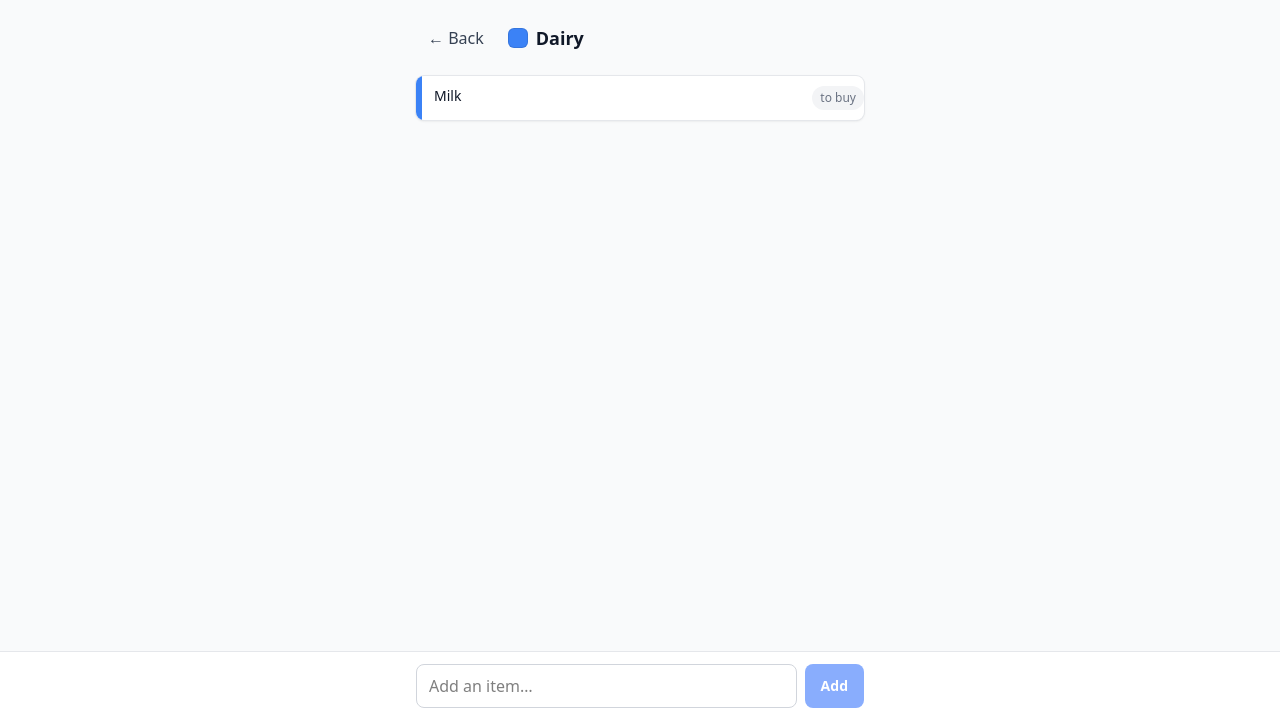
Test: CategoryItemsPage add-from-category bar (docs/TASKS.md → T43) › creates an item in this category from the Create row (DoD)
This screenshot has width=1280, height=720.
Expected: the list item with test id "category-item-i1" is shown, [416,76,864,120]
Type "Yogurt" into the field named "Add item".
click(606, 686); type("Yogurt")  # box [416,664,797,708]
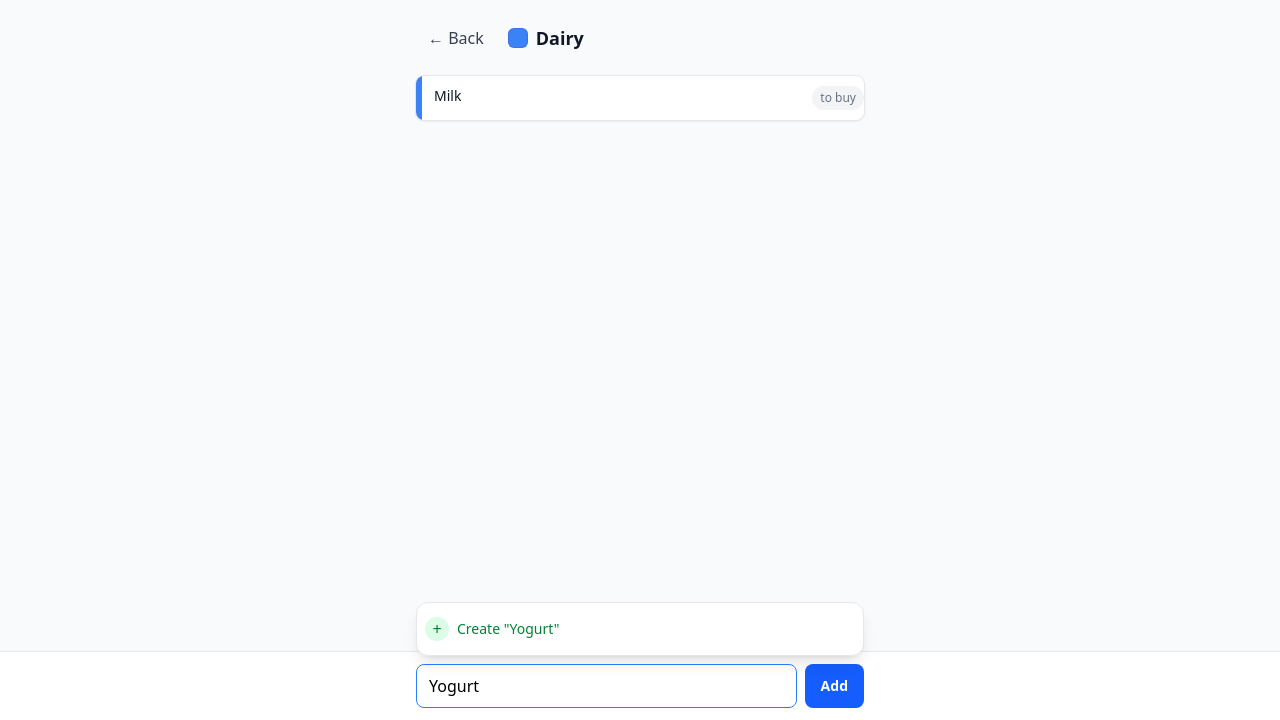
Click the button with test id "create-item-row".
click(483, 628)  # box [421,607,859,651]
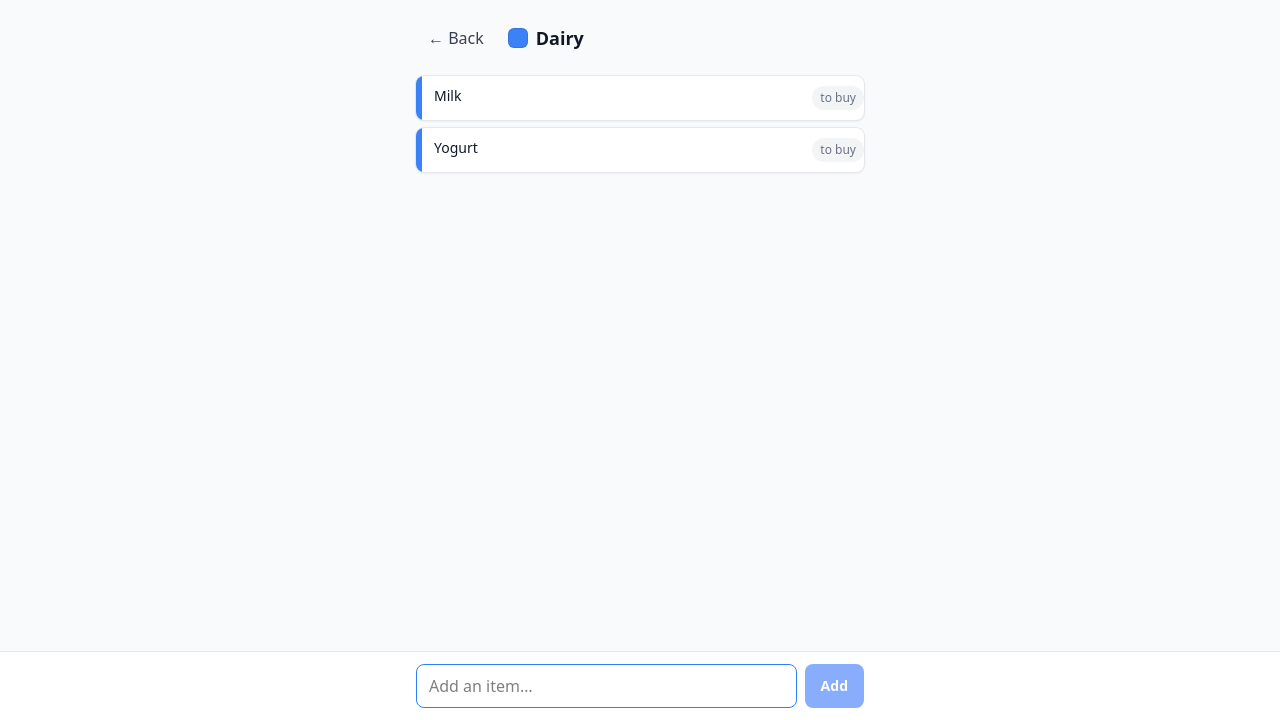
Expected: the text "Yogurt" is shown, [434,138,478,157]
Expected: the field named "Add item" is empty, [416,664,797,708]
Expected: the element with test id "suggestions-popover" is gone
